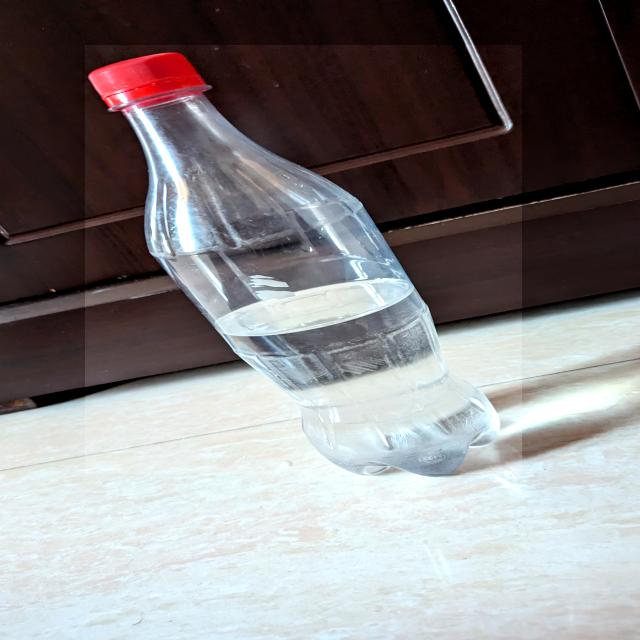half-bottle: (85, 45, 522, 474)
